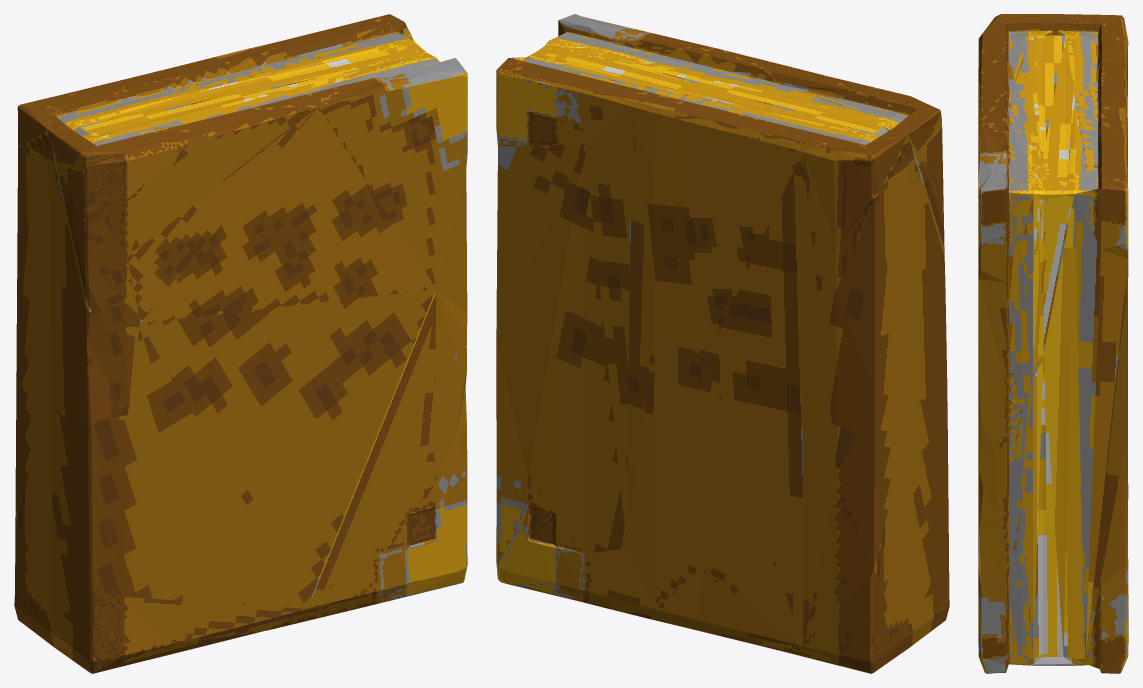
The picture shows the model from 3 angles, left to right: view 1: azimuth 30°, elevation 25°; view 2: azimuth 150°, elevation 25°; view 3: azimuth 270°, elevation 25°; orthographic projection. The views are drawn at different scales.
Parts seen in each view (by area): view 1: OBJ114; view 2: OBJ114; view 3: OBJ114.
Boxes of the visible parts, x1,y1,x2,y2 form: OBJ114: [14, 14, 467, 673]; OBJ114: [496, 14, 949, 673]; OBJ114: [978, 14, 1128, 673].
Size of the model in its own units: 0.2456 by 0.3193 by 0.0892.
Materials: 1 (1 with a texture image).
